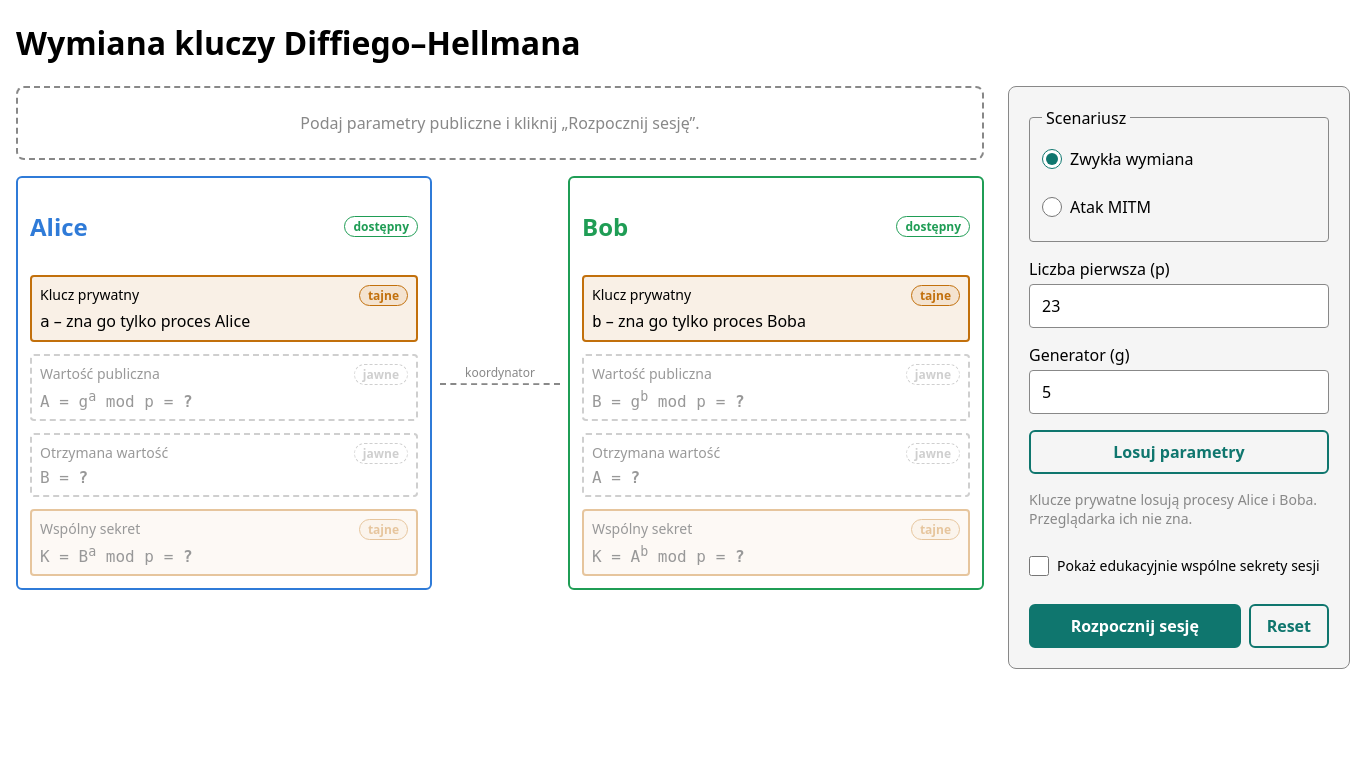
DH – losowanie p, g › Reset przerywa losowanie – spóźniona odpowiedź nie zmienia pól
Click the button "Losuj parametry" at (1179,452), box [1029,430,1329,474]
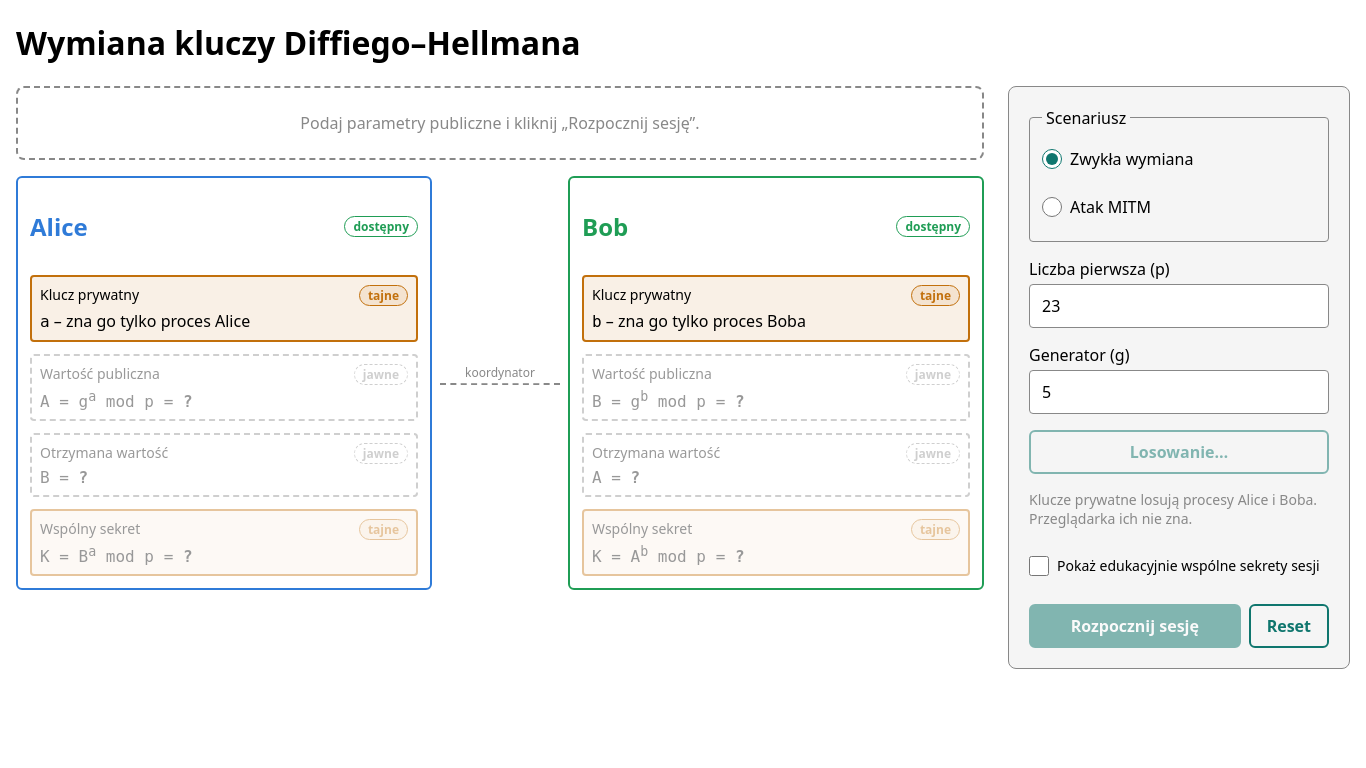
Expected: the button "Losowanie…" is shown, [1029,430,1329,474]
Click the button "Reset" at (1289,626), box [1249,604,1329,648]
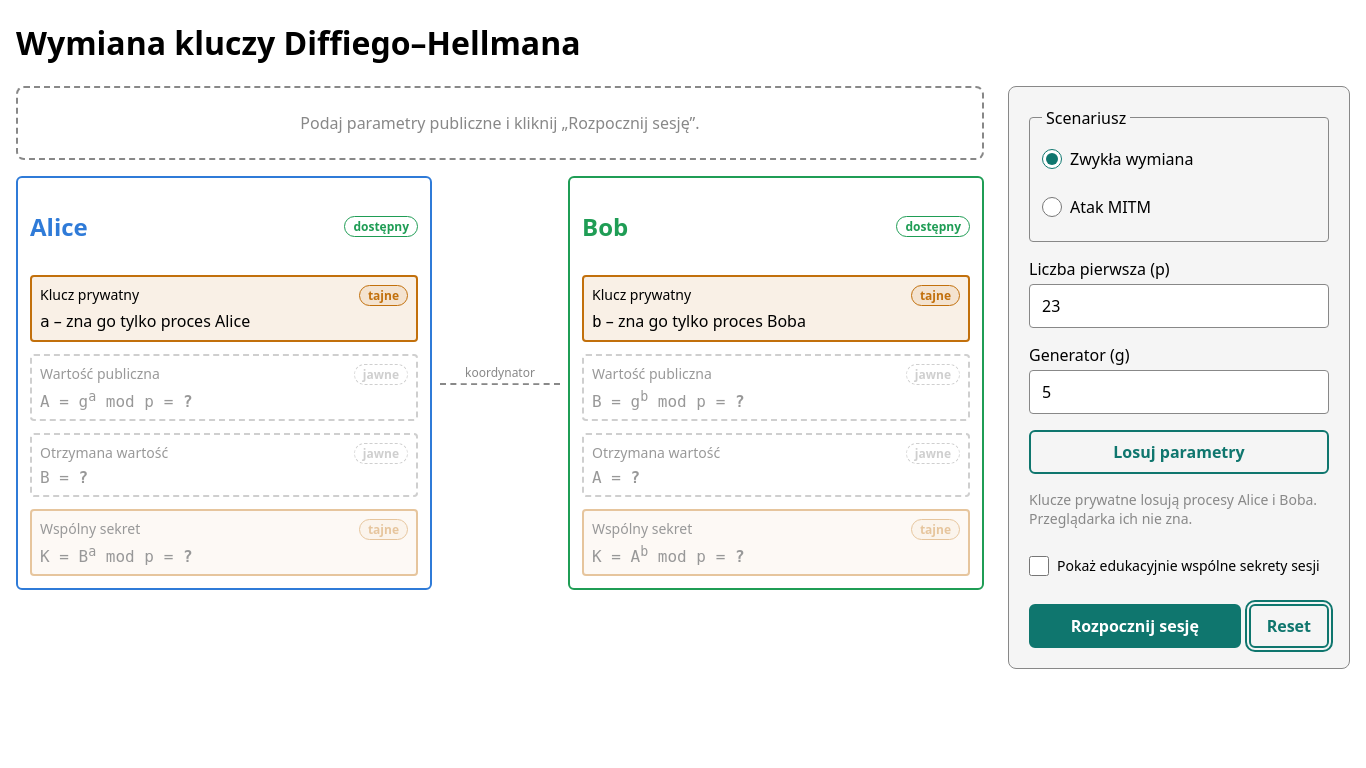
Expected: the button "Losuj parametry" is shown, [1029,430,1329,474]
